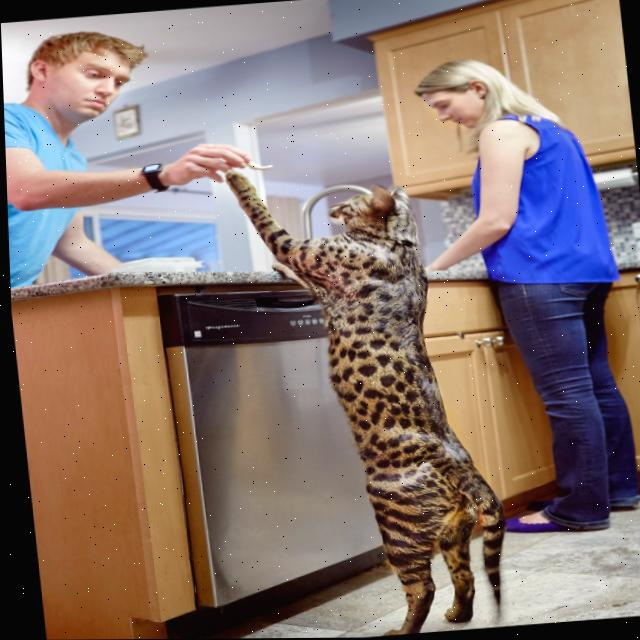Savannah: (211, 145, 512, 639)
